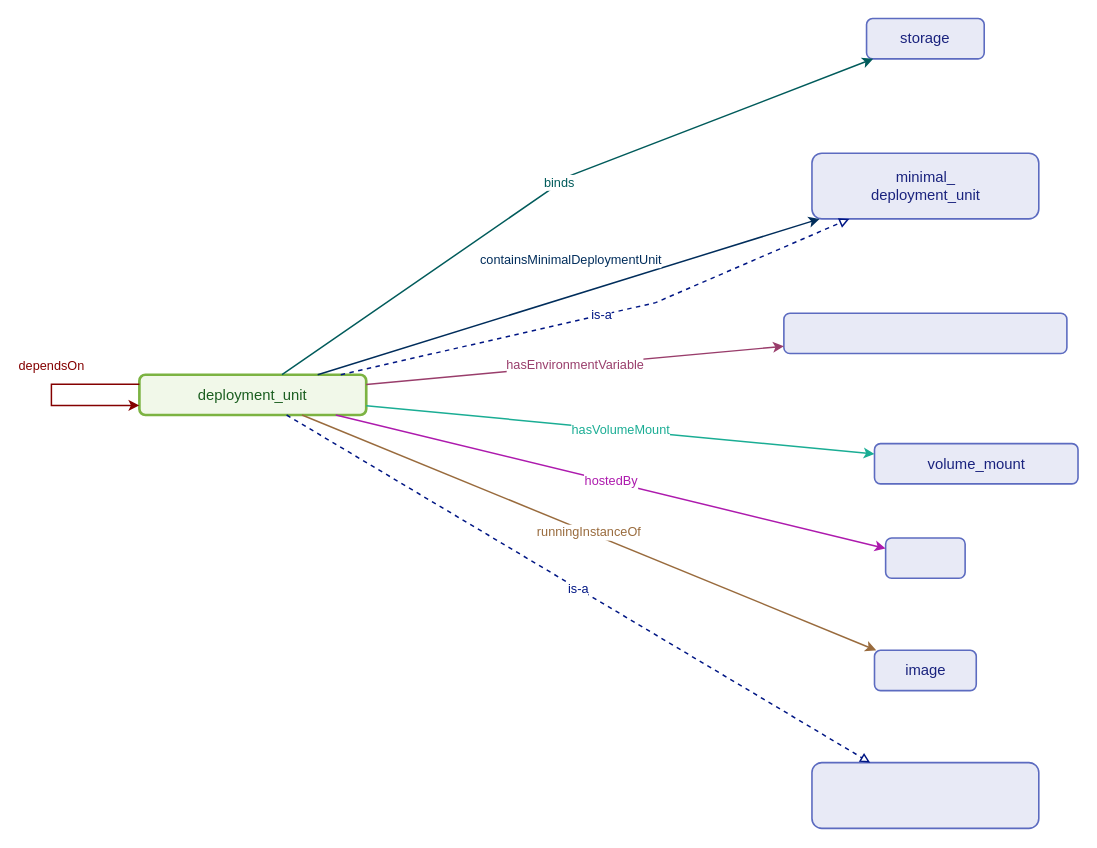
Image size: 1097x848. Some labels were removed from this diagram. Here are the shapes that lost their labels. From the top down, the centre of each, then its label:
At point (925, 333): "environment_variable".
At point (924, 558): "host".
At point (925, 795): "stateful_ deployment_unit".
